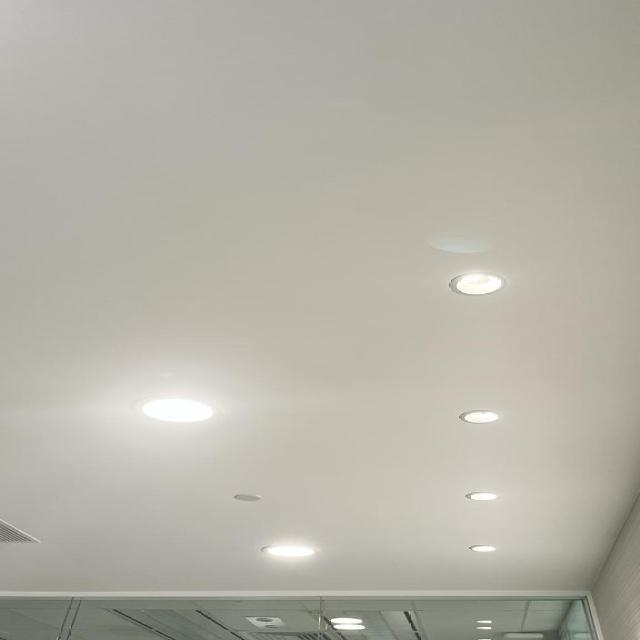Light-Opened: (128, 394, 224, 430), (448, 266, 512, 300), (252, 540, 324, 564), (454, 404, 509, 428), (462, 486, 506, 504), (467, 540, 503, 558)
